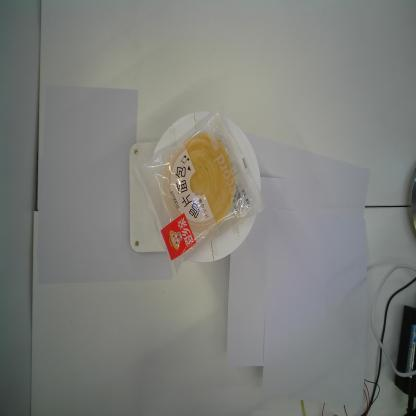Dessert: (136, 103, 268, 277)
